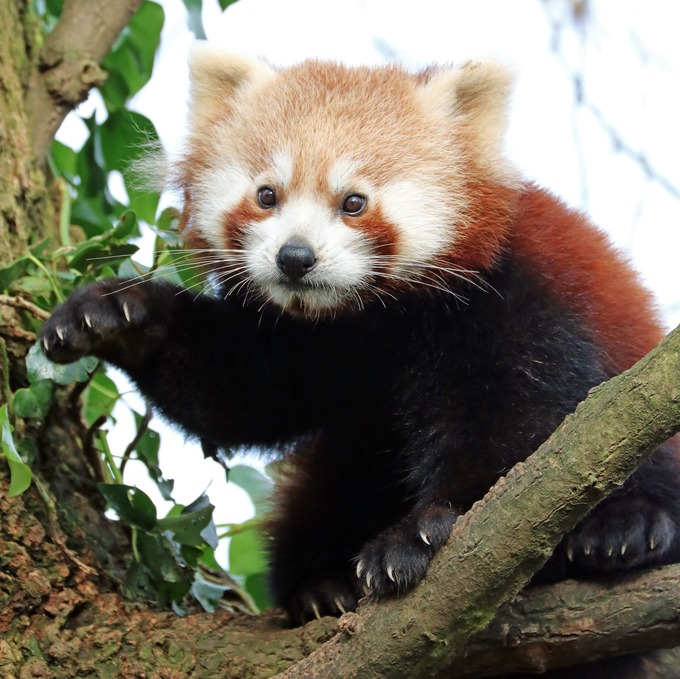red_panda: (74, 62, 656, 573)
